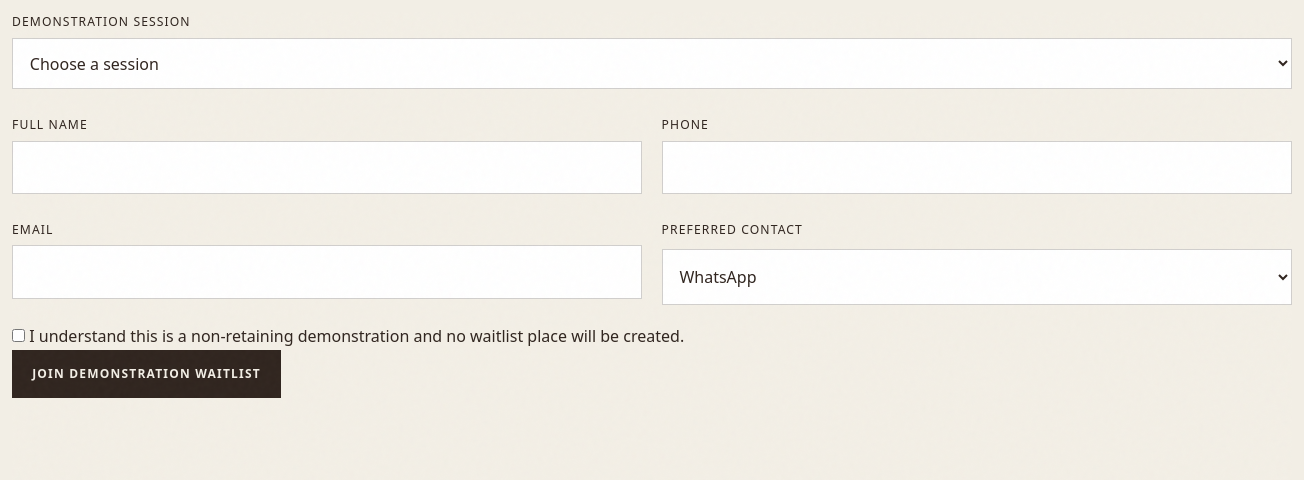
Test case: request forms › validates the waitlist selection
Click the button "Join demonstration waitlist" at (147, 374), box [12,350,281,398]
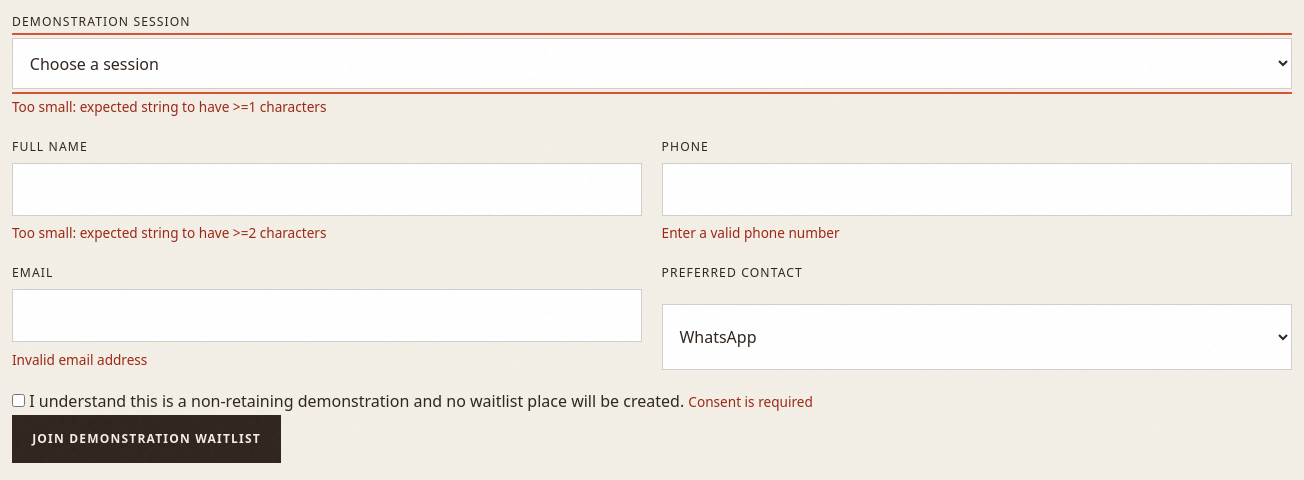
Now the text "Too small: expected string to have >=1 characters" is shown, box [12,97,326,116]
